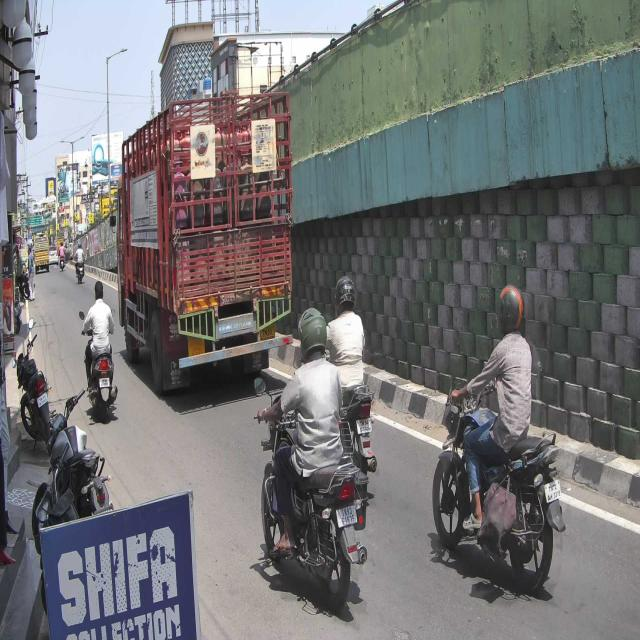single_rider: (432, 282, 566, 595), (253, 304, 368, 604)
